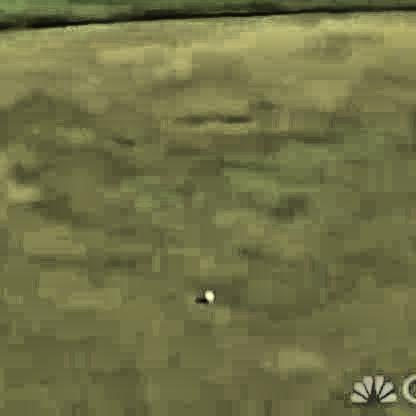golfball: (202, 285, 212, 298)
